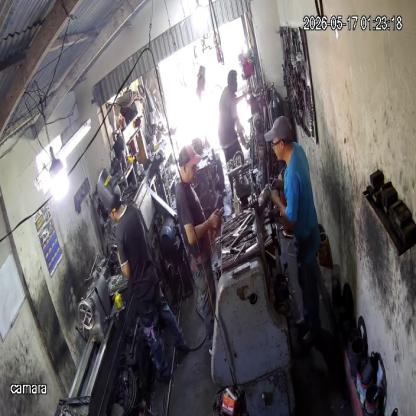lentes: (271, 139, 281, 150)
